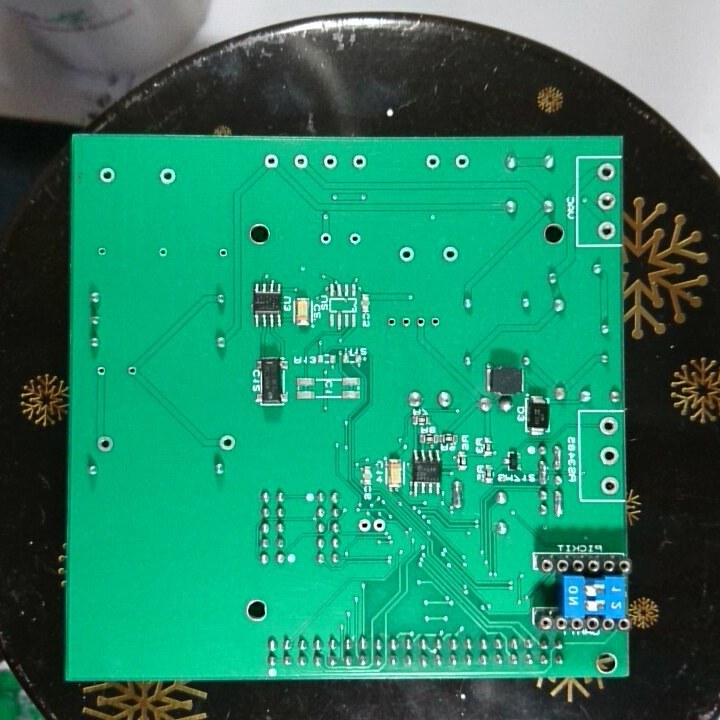F: (597, 473, 622, 498), (597, 443, 621, 469), (594, 218, 617, 242), (595, 189, 618, 213), (594, 161, 617, 184), (319, 152, 341, 174), (94, 433, 116, 455), (440, 243, 461, 266), (598, 415, 619, 437), (96, 164, 117, 186), (217, 432, 239, 453), (397, 243, 417, 265), (157, 166, 179, 186), (371, 513, 389, 537), (422, 152, 442, 173), (453, 152, 472, 172), (262, 150, 280, 171), (351, 152, 368, 172), (355, 515, 372, 535), (291, 152, 309, 170), (93, 363, 111, 380), (318, 229, 334, 247), (124, 362, 140, 380), (155, 243, 171, 260), (347, 229, 362, 247), (428, 312, 442, 331), (94, 243, 109, 260), (384, 315, 399, 331), (414, 314, 428, 330), (216, 245, 230, 261), (399, 315, 412, 331)
P: (450, 476, 466, 513), (550, 441, 565, 473), (551, 487, 565, 518), (536, 458, 549, 486)
